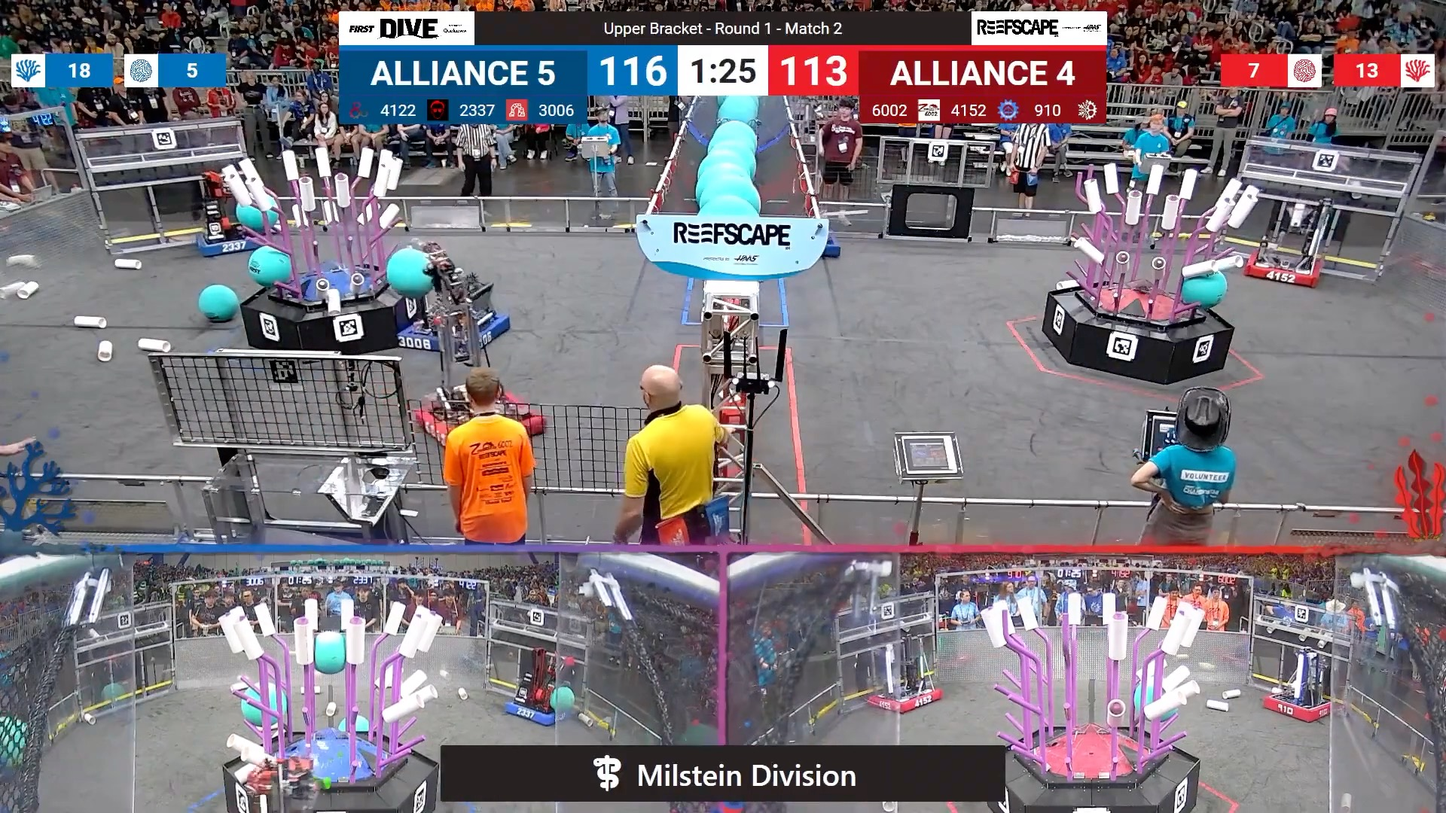bumpers: (410, 388, 551, 447), (392, 305, 517, 355), (1234, 248, 1333, 291), (189, 222, 279, 260), (1256, 692, 1342, 725), (863, 683, 946, 714), (499, 695, 572, 729)
